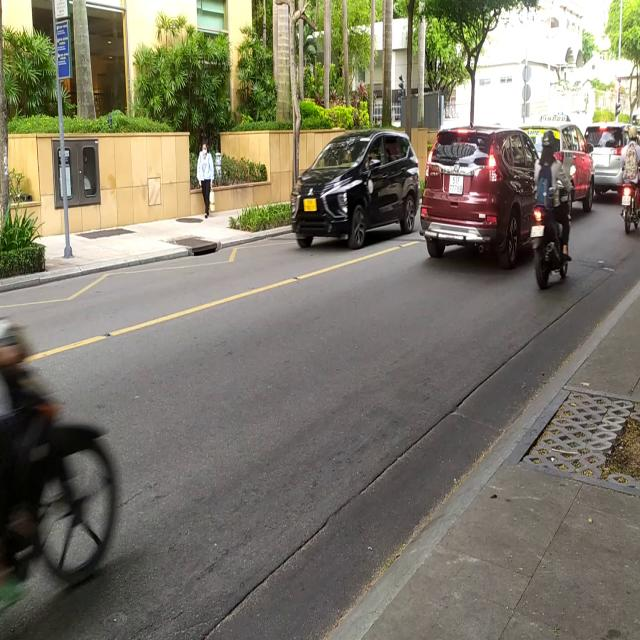bien_trang: (448, 171, 464, 197)
